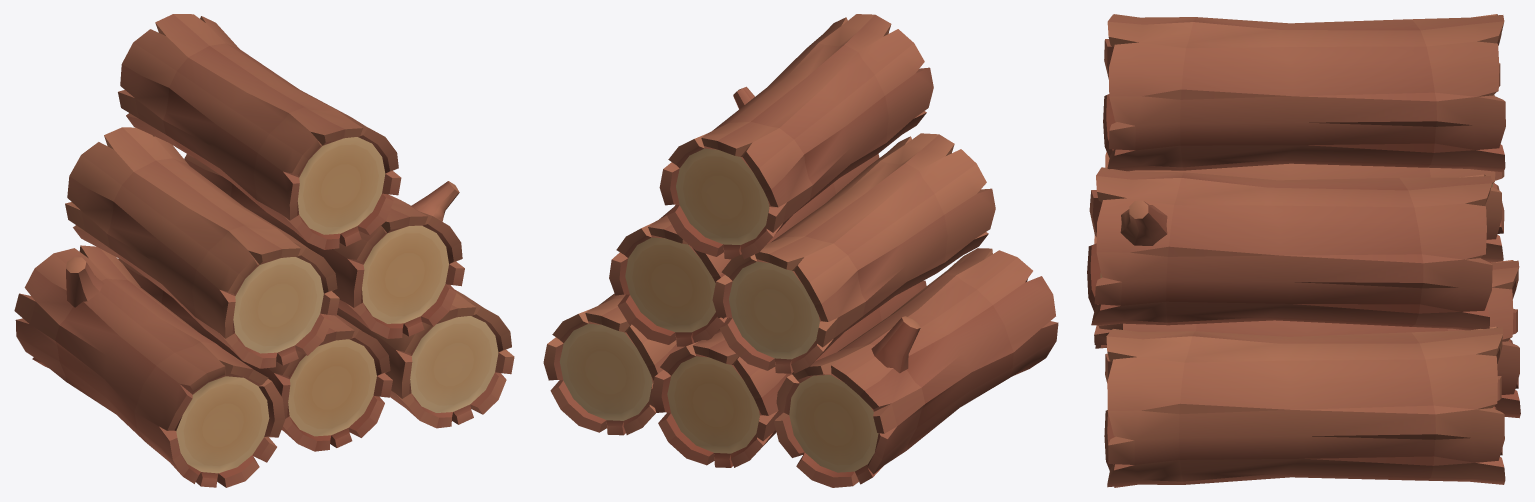
File: Wood_Log_Stack.glb
The picture shows the model from 3 angles, left to right: view 1: azimuth 30°, elevation 25°; view 2: azimuth 150°, elevation 25°; view 3: azimuth 270°, elevation 25°; orthographic projection. The views are drawn at different scales.
Parts seen in each view (by area): view 1: Wood_Log_Stack; view 2: Wood_Log_Stack; view 3: Wood_Log_Stack.
Part boxes in pixels (x1,y1,x2,y2): Wood_Log_Stack: (14, 14, 514, 487); Wood_Log_Stack: (543, 14, 1058, 487); Wood_Log_Stack: (1087, 14, 1520, 487).
Size of the model in its own units: 1.68 by 1.5 by 1.5.
1 material, 1 textured.
